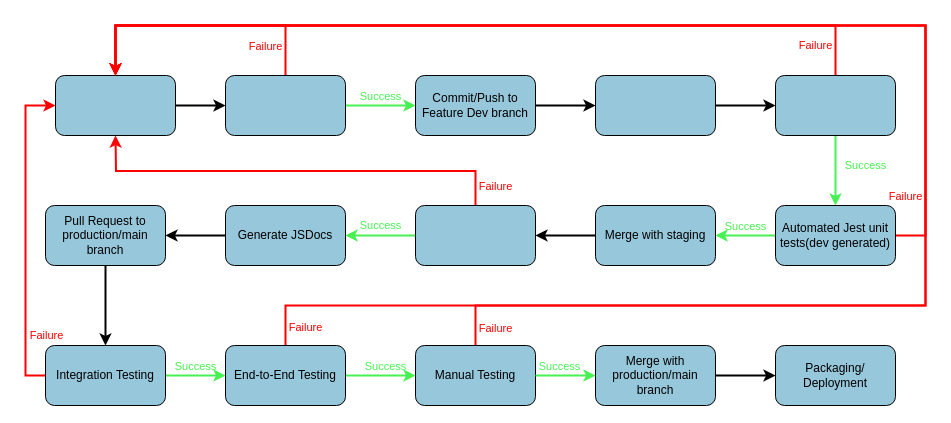
Image size: 951x423. Some labels were removed from this diagram. The box of each missing label's shape, as (x1, y1, x2, y2) in pixels:
Automated Jest unit tests(dev and tester generated): (414, 204, 536, 266)
Codacy code quality check: (774, 74, 896, 136)
Code on Local: (54, 74, 176, 136)
ESLint Style/Linting Checks: (224, 74, 346, 136)
Pull Request to staging branch (feature is ready): (594, 74, 716, 136)
